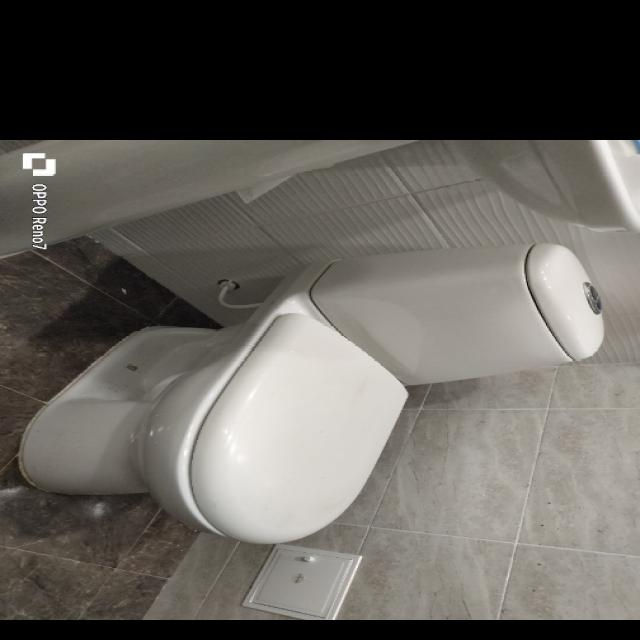toilet: (17, 241, 604, 545)
